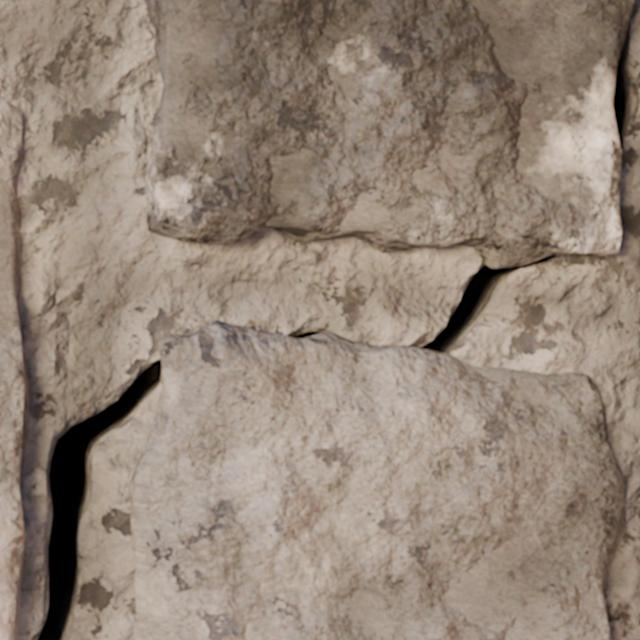crack: (34, 0, 634, 639), (0, 99, 29, 639)
